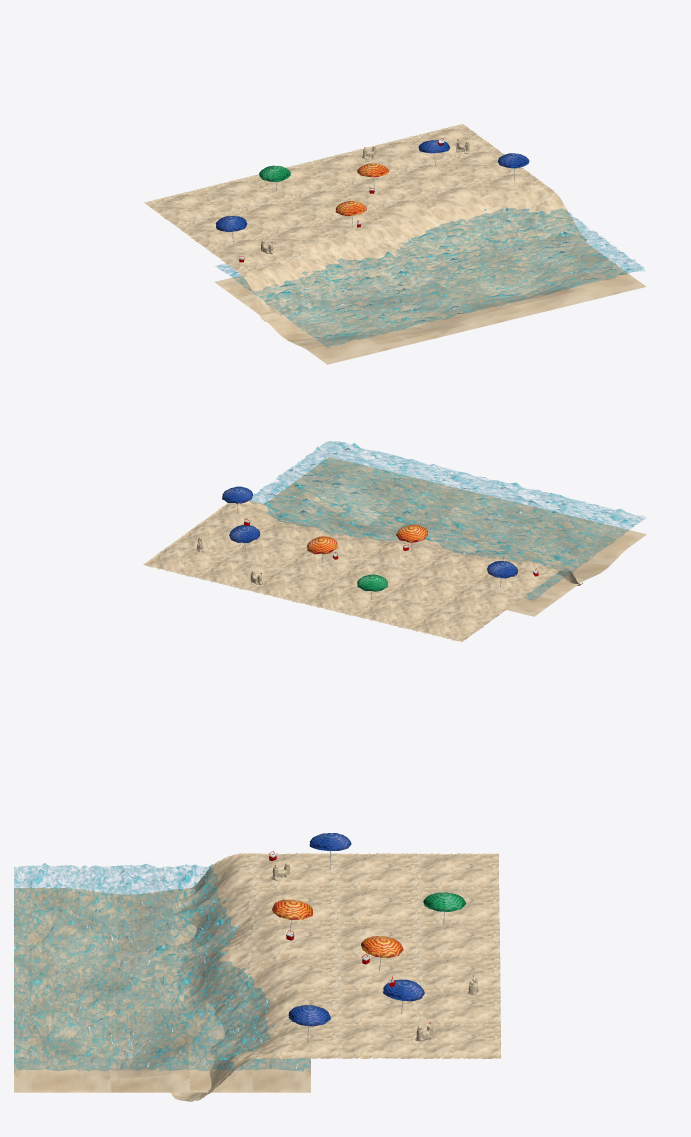
Rendered from Praia Mapa.glb.
3 renders of one model, top to bottom at view 1: azimuth 30°, elevation 25°; view 2: azimuth 150°, elevation 25°; view 3: azimuth 270°, elevation 25°, orthographic. The views are drawn at different scales.
Parts seen in each view (by area): view 1: Plane.001, Plane, Plane.002; view 2: Plane.001, Plane, Plane.002; view 3: Plane.001, Plane, Plane.002, Cylinder.005, Cylinder.004, Cylinder.003, Cylinder, Cylinder.002, Cylinder.001.
Boxes of the visible parts, bbox=[...] form: Plane.001: bbox=[144, 124, 586, 321]; Plane: bbox=[215, 208, 643, 348]; Plane.002: bbox=[214, 207, 646, 364]; Plane.001: bbox=[143, 501, 582, 641]; Plane: bbox=[249, 441, 645, 600]; Plane.002: bbox=[264, 457, 646, 616]; Plane.001: bbox=[171, 853, 500, 1101]; Plane: bbox=[14, 863, 310, 1071]; Plane.002: bbox=[14, 888, 310, 1092]; Cylinder.005: bbox=[361, 936, 403, 971]; Cylinder.004: bbox=[288, 1005, 330, 1041]; Cylinder.003: bbox=[383, 979, 424, 1014]; Cylinder: bbox=[272, 899, 312, 932]; Cylinder.002: bbox=[423, 892, 466, 925]; Cylinder.001: bbox=[309, 833, 351, 869].
Bounding box in the file's own units: 166 × 31.64 × 162.
Materials: 11 (4 with a texture image).
